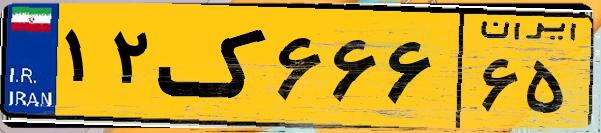1: (57, 26, 110, 100)
2: (110, 28, 158, 98)
5: (525, 38, 570, 115)
6: (270, 28, 330, 110), (385, 28, 445, 110), (330, 28, 385, 110), (475, 38, 525, 113)
ک: (158, 12, 270, 120)
